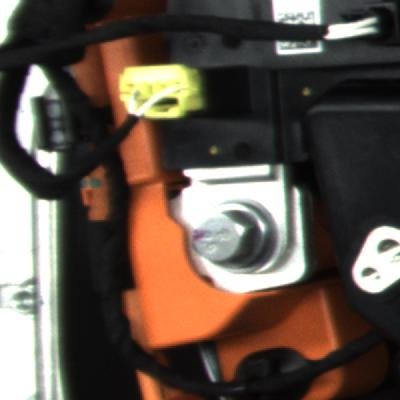nut_b: (184, 189, 289, 281)
